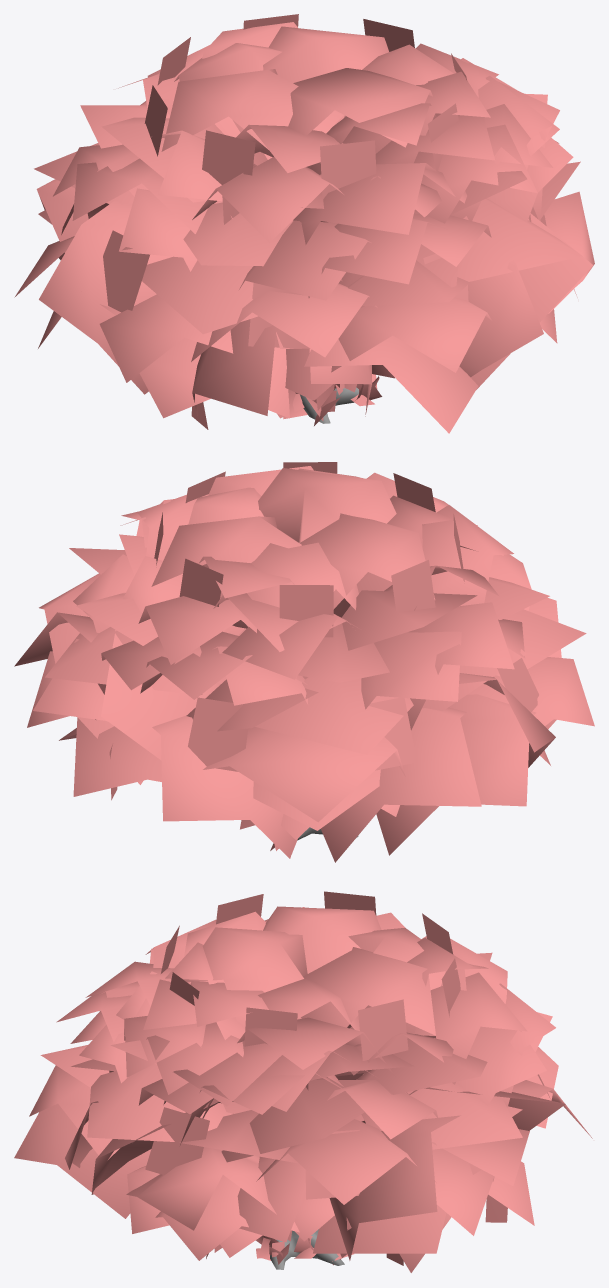
The model's file is oren_elf_worldtree1.gltf.
The picture shows the model from 3 angles, top to bottom: view 1: azimuth 30°, elevation 25°; view 2: azimuth 150°, elevation 25°; view 3: azimuth 270°, elevation 25°; orthographic projection. The views are drawn at different scales.
Parts seen in each view (by area): view 1: oren_elf_worldtree1; view 2: oren_elf_worldtree1; view 3: oren_elf_worldtree1.
Boxes of the visible parts, left/top/right/bottom form: oren_elf_worldtree1: left=14, top=14, right=594, bottom=433; oren_elf_worldtree1: left=14, top=462, right=594, bottom=862; oren_elf_worldtree1: left=14, top=891, right=592, bottom=1272.
Bounding box in the file's own units: 20.87 × 13.03 × 21.63.
